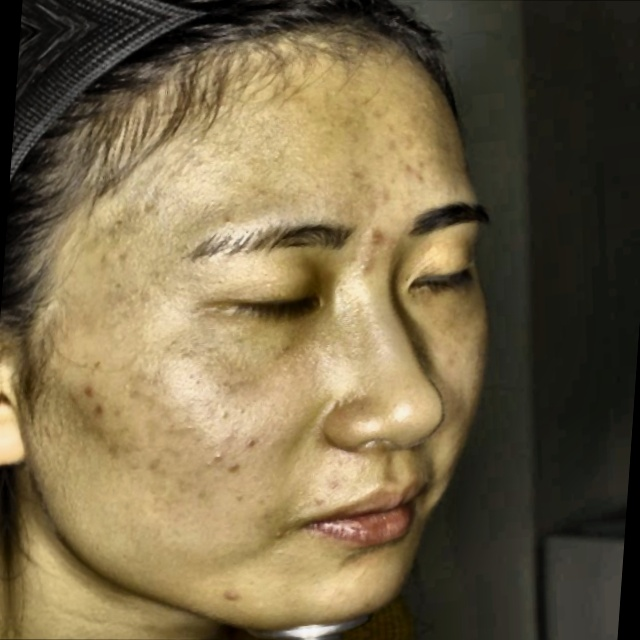comedone: (202, 579, 266, 620), (70, 376, 110, 418), (352, 206, 389, 243)
